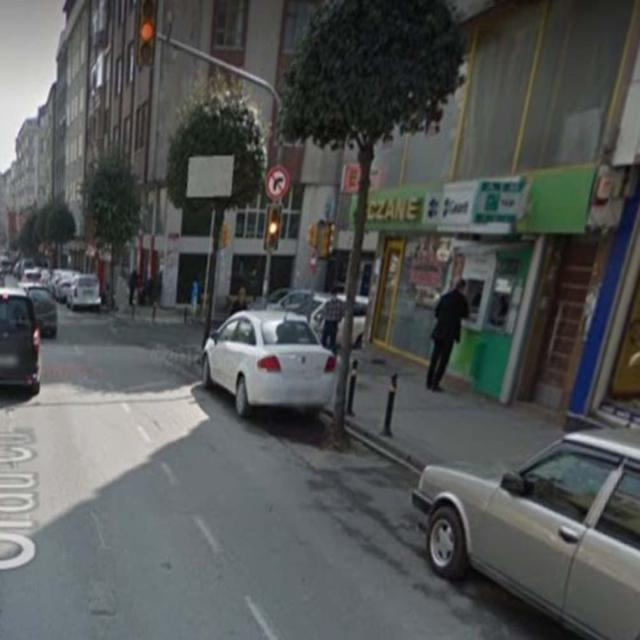sagadonulmez: (265, 166, 289, 201)
sari: (136, 1, 156, 67), (264, 204, 278, 250)
